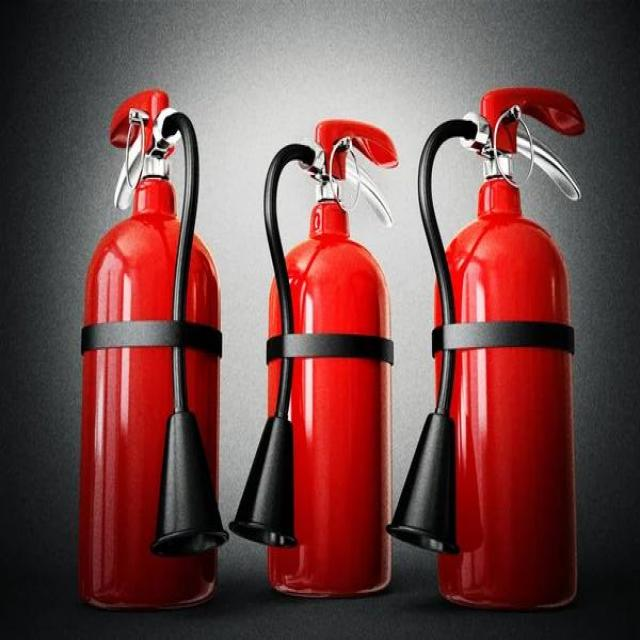Fire-Extinguisher: (403, 87, 580, 608), (233, 86, 389, 596), (81, 87, 226, 605)
